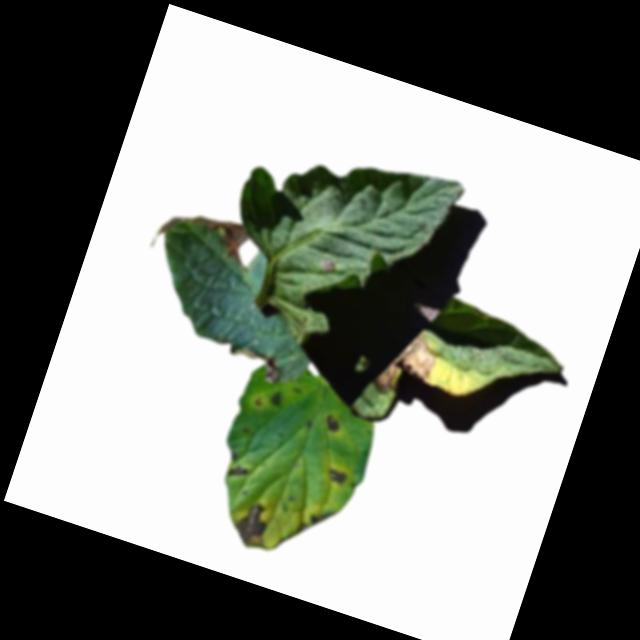Early_blight: (145, 196, 253, 275), (370, 322, 442, 404), (228, 497, 278, 555), (233, 340, 289, 387), (309, 506, 339, 532), (324, 465, 351, 488), (266, 388, 288, 412), (322, 412, 343, 435), (226, 464, 250, 483), (317, 254, 337, 274)
